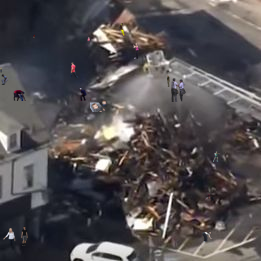Human: (3, 226, 28, 246), (171, 78, 186, 102), (90, 98, 109, 112), (69, 62, 81, 78), (13, 90, 26, 101), (79, 88, 89, 102), (202, 232, 213, 243), (203, 193, 217, 201), (119, 23, 126, 37), (133, 43, 139, 59), (213, 151, 220, 162), (1, 74, 8, 85), (84, 37, 90, 45), (167, 75, 170, 87), (0, 67, 2, 73), (33, 34, 35, 39), (174, 229, 175, 232), (105, 153, 106, 155), (109, 200, 110, 202)
